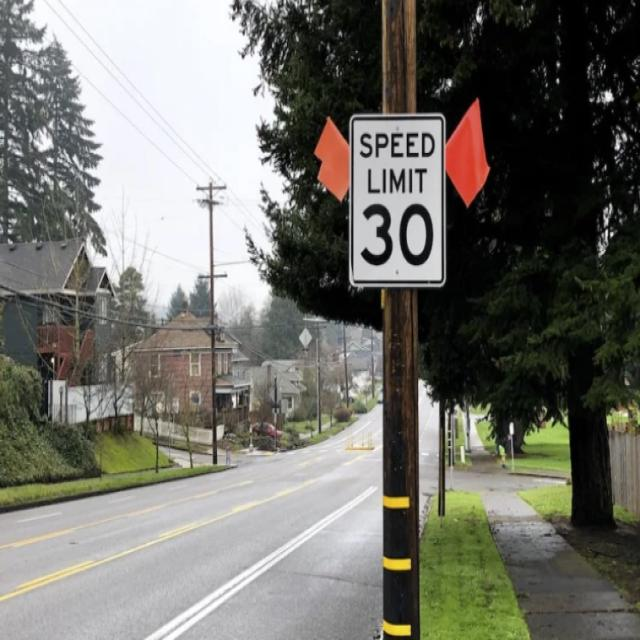speedLimit30: (352, 118, 442, 284)
